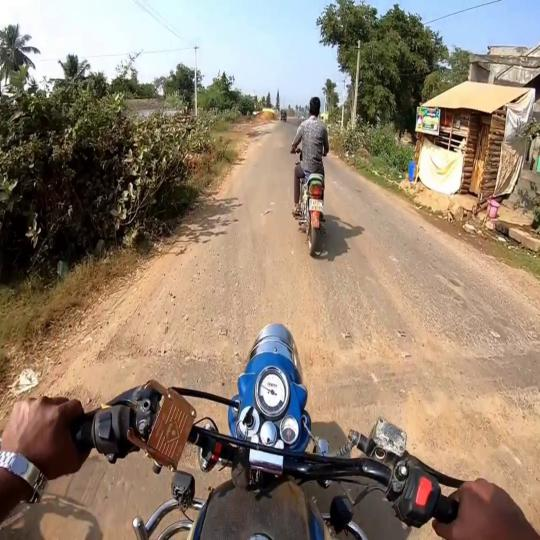Speed Bump: (304, 348, 540, 394), (66, 351, 232, 401), (444, 444, 540, 486), (81, 461, 160, 503)
